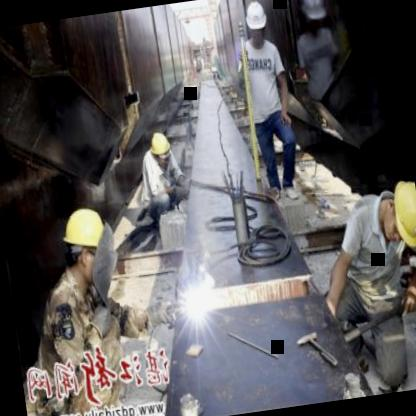helmet: (54, 198, 112, 286), (382, 175, 416, 249), (146, 127, 176, 170), (241, 0, 270, 43)
